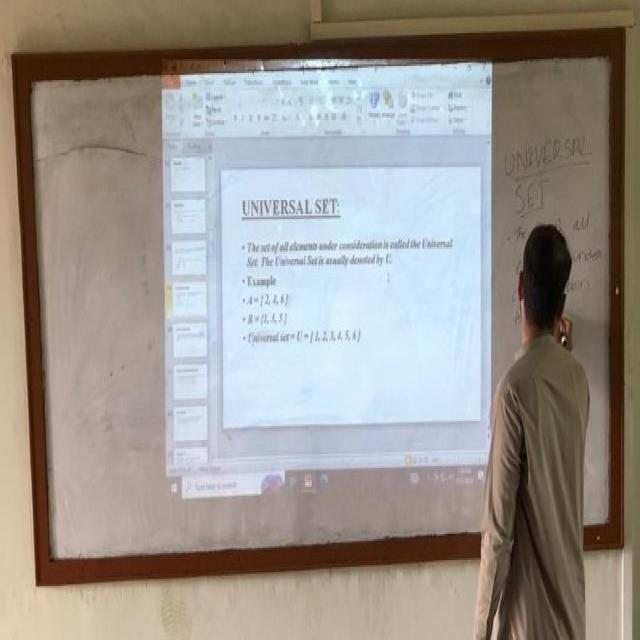Instructor: (483, 210, 596, 620)
Slide: (162, 64, 495, 502)
White-board: (20, 39, 623, 570)
